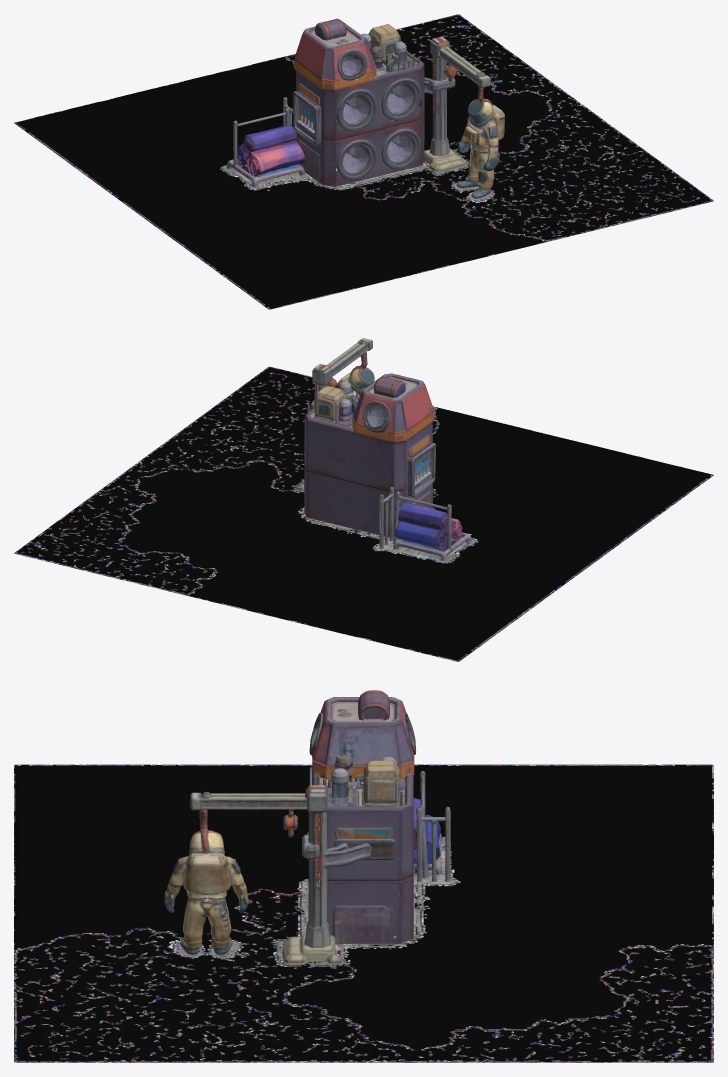
Rendered from fabrika-tekstilnaya.glb.
3 views of the same model, one above another, from view 1: azimuth 30°, elevation 25°; view 2: azimuth 150°, elevation 25°; view 3: azimuth 270°, elevation 25° (orthographic). The views are drawn at different scales.
Visible parts, largest first — view 1: geometry_0; view 2: geometry_0; view 3: geometry_0.
Boxes of the visible parts, bbox=[...] form: geometry_0: bbox=[14, 14, 713, 309]; geometry_0: bbox=[14, 338, 713, 661]; geometry_0: bbox=[14, 690, 713, 1062].
Size of the model in its own units: 1 by 0.3172 by 0.9941.
1 material, 1 textured.
